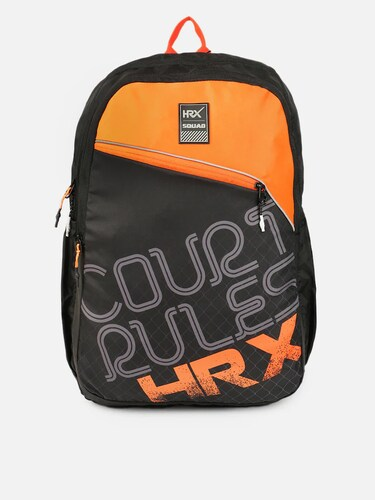backpack: (55, 15, 317, 408)
